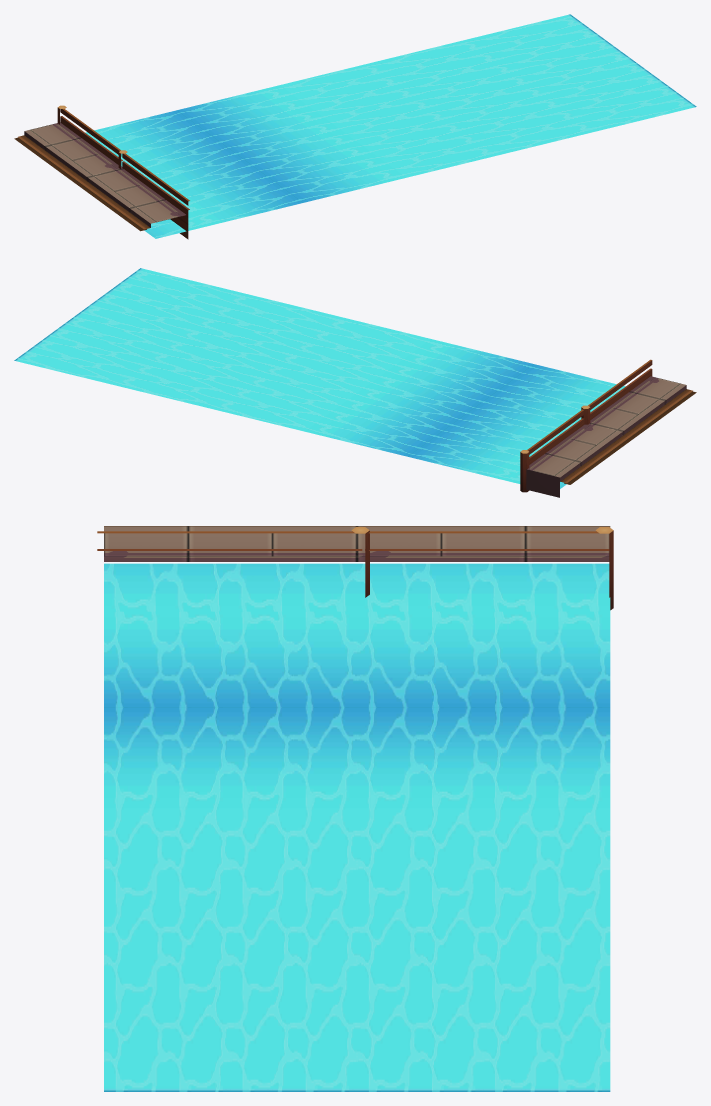
The model's file is 1.100_SanFrancisco_high_02_left.glb.
The picture shows the model from 3 angles, top to bottom: view 1: azimuth 30°, elevation 25°; view 2: azimuth 150°, elevation 25°; view 3: azimuth 270°, elevation 25°; orthographic projection. The views are drawn at different scales.
Parts seen in each view (by area): view 1: 1.100_SanFrancisco_high_02_left; view 2: 1.100_SanFrancisco_high_02_left; view 3: 1.100_SanFrancisco_high_02_left.
Boxes of the visible parts, <box> form: 1.100_SanFrancisco_high_02_left: <box>14,14,696,239</box>; 1.100_SanFrancisco_high_02_left: <box>14,268,696,497</box>; 1.100_SanFrancisco_high_02_left: <box>97,526,613,1091</box>.
Bounding box in the file's own units: 457 × 30.82 × 184.
Materials: 2 (2 with a texture image).
